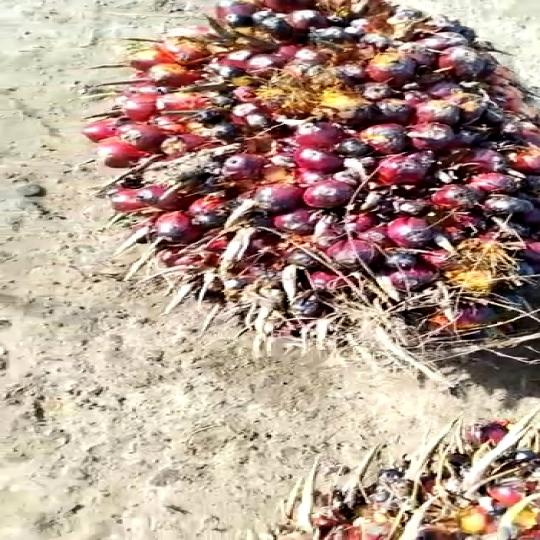masak: (69, 0, 540, 369)
